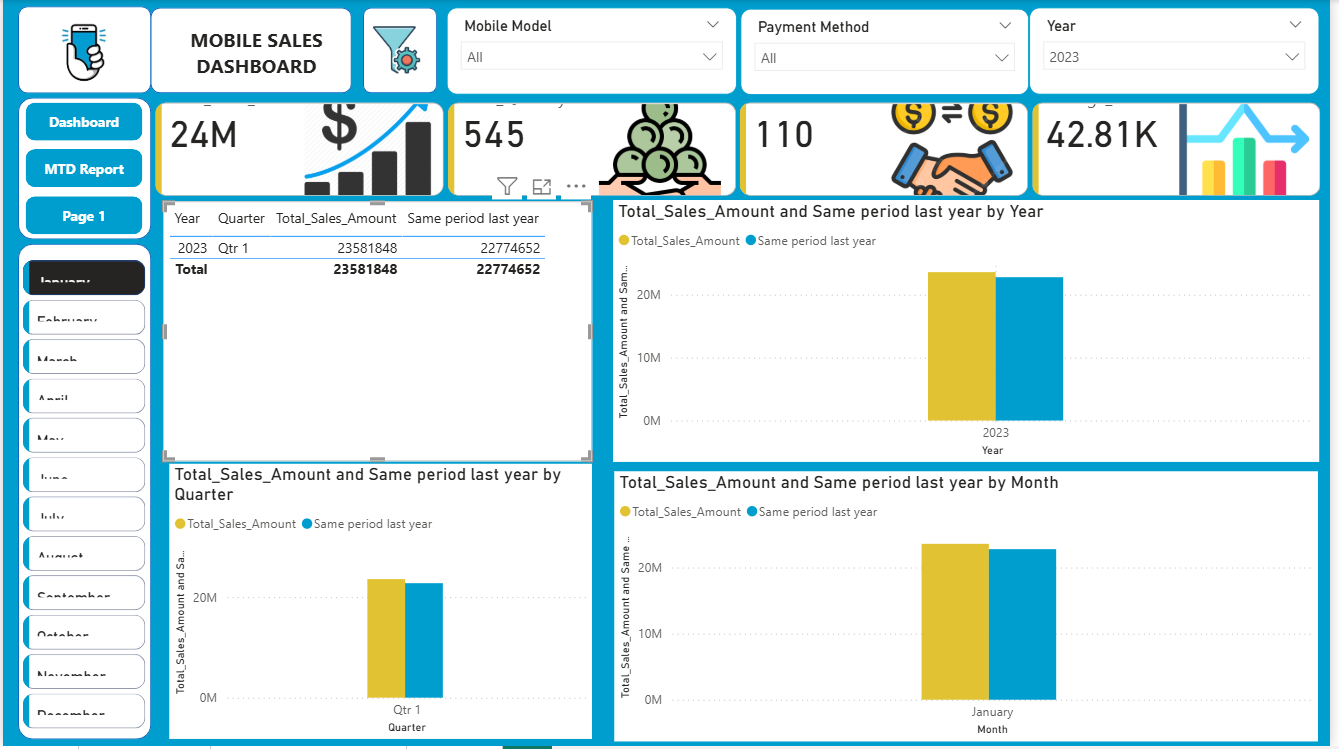

Layout of this report page (visuals, bound fields, positions):
{"tool":"powerbi","page":{"name":"Same Period last year","canvas":[1280,720],"ordinal":2},"visuals":[{"type":"shape","box":[14.3,5.7,128.6,84.3],"z":0},{"type":"image","box":[24.3,10,108.6,81.4],"z":1000},{"type":"shape","box":[14.3,94.3,128.6,137.1],"z":2000},{"type":"cardVisual","fields":{"Data":["Mobile_Sales_Data.Total_Sales_Amount","Mobile_Sales_Data.Total_Quantity","Mobile_Sales_Data.Transactions","Mobile_Sales_Data.Average_Price"]},"box":[142.9,94.3,1137.1,100],"z":3000},{"type":"slicer","fields":{"Values":["Mobile_Sales_Data.Mobile Model"]},"box":[428.6,7.1,280,84.3],"z":4000},{"type":"slicer","fields":{"Values":["Mobile_Sales_Data.Payment Method"]},"box":[711.4,8.6,278.6,82.9],"z":5000},{"type":"slicer","fields":{"Values":["Custom_Calender.Date.Variation.Date Hierarchy.Year"]},"box":[990,7.1,280,84.3],"z":6000},{"type":"shape","box":[347.1,7.1,71.4,82.9],"z":7000},{"type":"image","box":[347.1,20,64.3,55.7],"z":8000},{"type":"shape","box":[142.9,7.1,194.3,82.9],"z":9000},{"type":"textbox","box":[172.9,20,144.3,64.3],"z":10000},{"type":"shape","box":[14.3,235.7,128.6,478.6],"z":11000},{"type":"advancedSlicerVisual","fields":{"Values":["Custom_Calender.Date.Variation.Date Hierarchy.Month"]},"box":[14.3,245.7,128.6,468.6],"z":12000},{"type":"tableEx","fields":{"Values":["Custom_Calender.Date.Variation.Date Hierarchy.Year","Custom_Calender.Date.Variation.Date Hierarchy.Quarter","Mobile_Sales_Data.Total_Sales_Amount","Mobile_Sales_Data.Same period last year"]},"box":[154.3,194.3,414.3,251.4],"z":13000},{"type":"clusteredColumnChart","fields":{"Category":["Custom_Calender.Date.Variation.Date Hierarchy.Year","Custom_Calender.Date.Variation.Date Hierarchy.Quarter"],"Y":["Mobile_Sales_Data.Total_Sales_Amount","Mobile_Sales_Data.Same period last year"]},"box":[588.6,192.9,681.4,252.9],"z":14000},{"type":"clusteredColumnChart","fields":{"Y":["Mobile_Sales_Data.Total_Sales_Amount","Mobile_Sales_Data.Same period last year"],"Category":["Custom_Calender.Date.Variation.Date Hierarchy.Month"]},"box":[589.5,455.3,678.9,260.5],"z":15000},{"type":"clusteredColumnChart","fields":{"Category":["Custom_Calender.Date.Variation.Date Hierarchy.Year","Custom_Calender.Date.Variation.Date Hierarchy.Quarter"],"Y":["Mobile_Sales_Data.Total_Sales_Amount","Mobile_Sales_Data.Same period last year"]},"box":[160.5,447.4,407.9,265.8],"z":16000},{"type":"pageNavigator","box":[22.1,98.9,113.7,128.4],"z":17000}]}

Visuals, with their boxes in screenshot pixels (x1, y1, x2, y2):
shape: l=18, t=6, r=150, b=92
image: l=28, t=10, r=140, b=94
shape: l=18, t=97, r=150, b=238
cardVisual - Mobile_Sales_Data.Total_Sales_Amount x Mobile_Sales_Data.Total_Quantity: l=150, t=97, r=1318, b=200
slicer - Mobile_Sales_Data.Mobile Model: l=444, t=7, r=731, b=94
slicer - Mobile_Sales_Data.Payment Method: l=734, t=9, r=1020, b=94
slicer - Custom_Calender.Date.Variation.Date Hierarchy.Year: l=1020, t=7, r=1308, b=94
shape: l=360, t=7, r=433, b=92
image: l=360, t=21, r=426, b=78
shape: l=150, t=7, r=350, b=92
textbox: l=181, t=21, r=329, b=87
shape: l=18, t=242, r=150, b=733
advancedSlicerVisual - Custom_Calender.Date.Variation.Date Hierarchy.Month: l=18, t=252, r=150, b=733
tableEx - Custom_Calender.Date.Variation.Date Hierarchy.Year x Custom_Calender.Date.Variation.Date Hierarchy.Quarter: l=162, t=200, r=587, b=458
clusteredColumnChart - Custom_Calender.Date.Variation.Date Hierarchy.Year x Custom_Calender.Date.Variation.Date Hierarchy.Quarter: l=608, t=198, r=1308, b=458
clusteredColumnChart - Mobile_Sales_Data.Total_Sales_Amount x Mobile_Sales_Data.Same period last year: l=609, t=468, r=1306, b=735
clusteredColumnChart - Custom_Calender.Date.Variation.Date Hierarchy.Year x Custom_Calender.Date.Variation.Date Hierarchy.Quarter: l=168, t=459, r=587, b=732
pageNavigator: l=26, t=102, r=143, b=233
